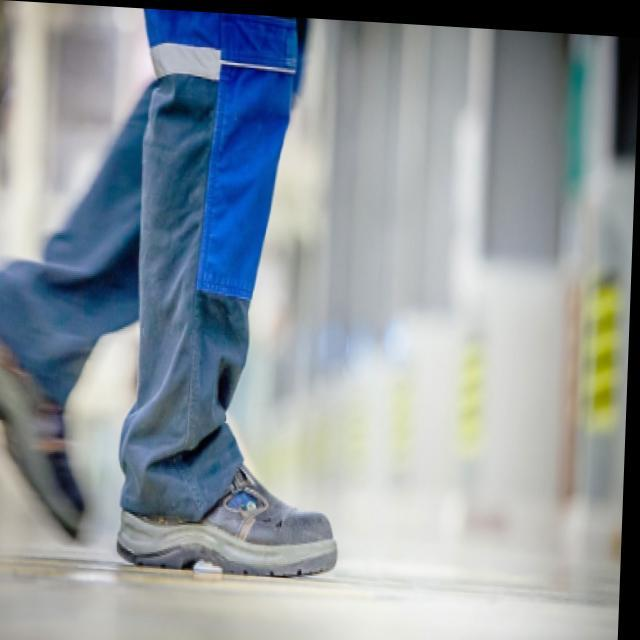boots: (0, 253, 353, 589)
